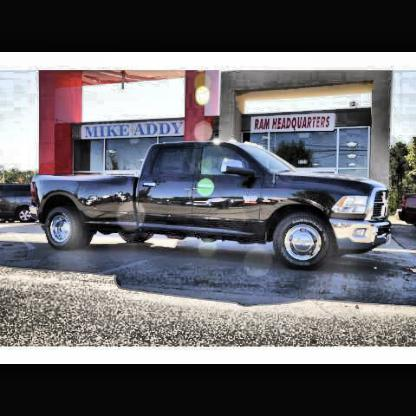Dodge Ram Pickup 3500 Crew Cab 2010: (30, 139, 394, 269)
